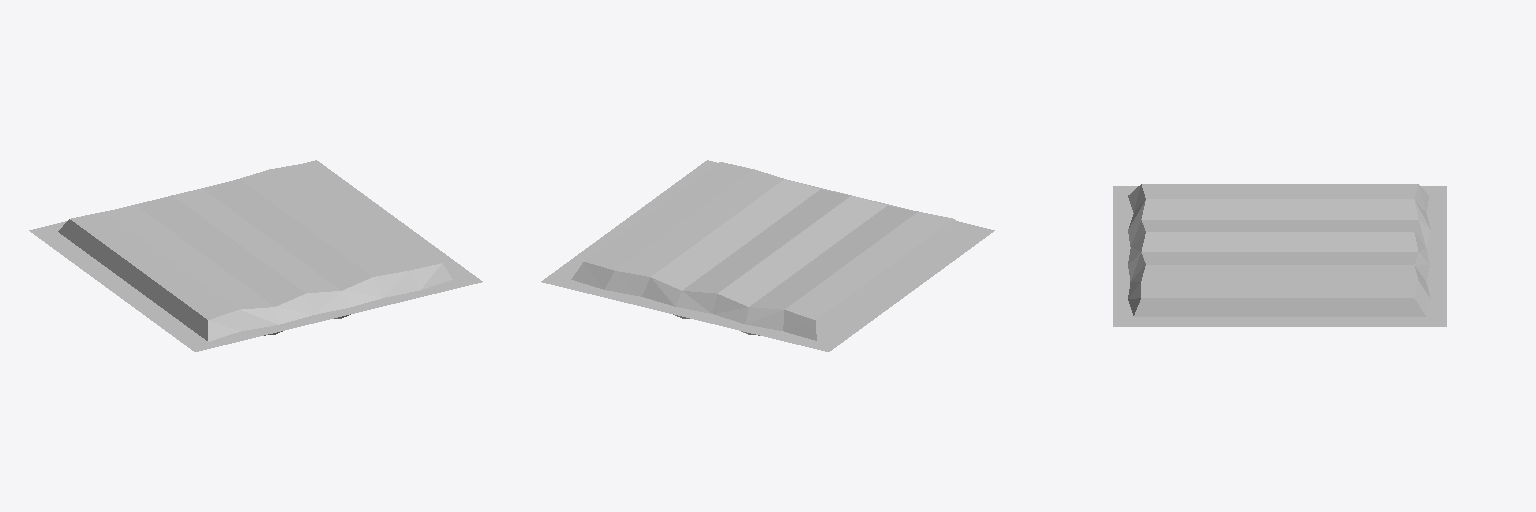
Rendered from SausagePack01A.obj.
The picture shows the model from 3 angles: view 1: azimuth 30°, elevation 25°; view 2: azimuth 150°, elevation 25°; view 3: azimuth 270°, elevation 25°; orthographic projection.
Visible parts, largest first — view 1: SausagePack01A; view 2: SausagePack01A; view 3: SausagePack01A.
Boxes of the visible parts, <box> form: SausagePack01A: <box>29,160,482,351</box>; SausagePack01A: <box>541,160,994,351</box>; SausagePack01A: <box>1113,184,1446,326</box>.
Size of the model in its own units: 0.4728 by 0.0496 by 0.4728.